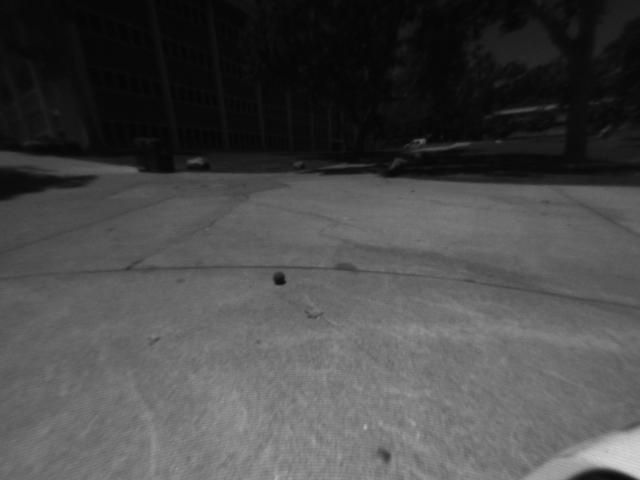dogtoy: (269, 268, 292, 289)
